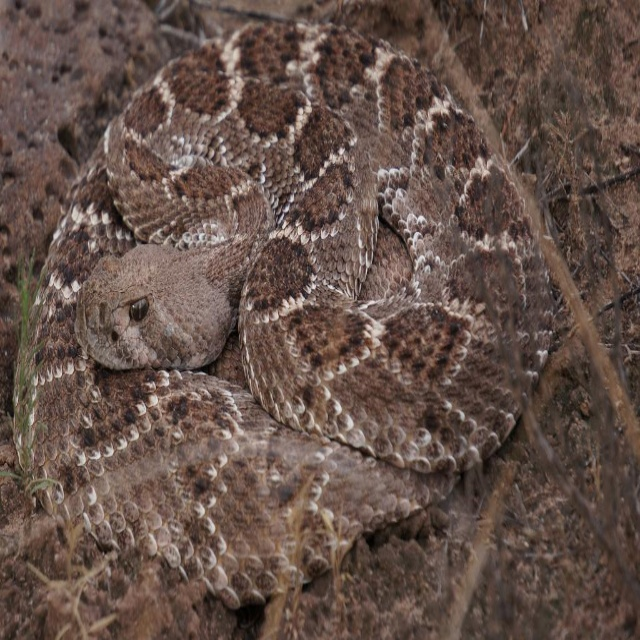Snake: (13, 1, 562, 613)
